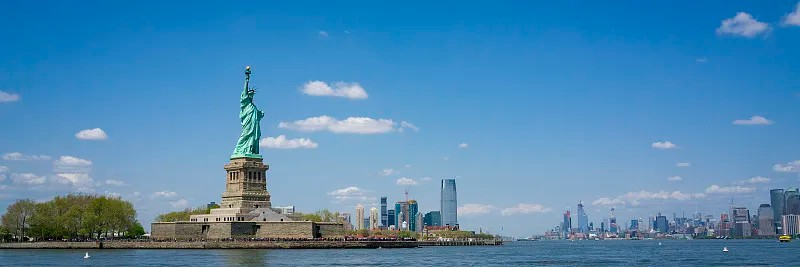SL: (219, 66, 271, 208)
